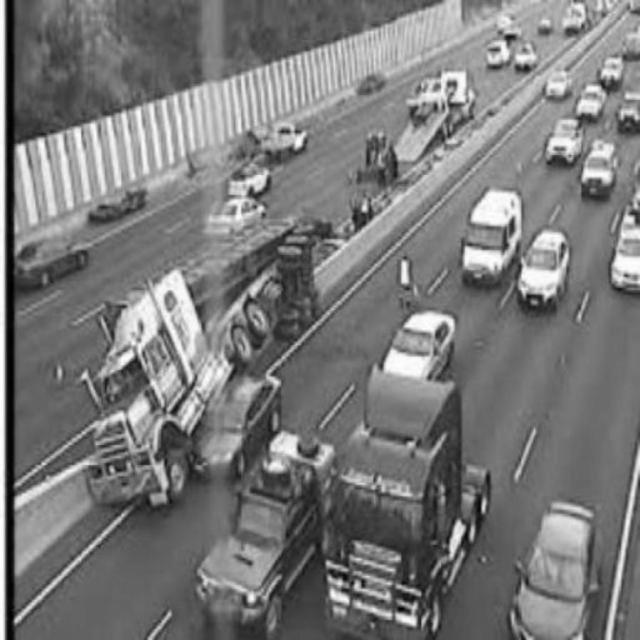accident: (95, 248, 280, 502)
vehicle: (325, 378, 491, 636), (191, 444, 331, 628), (503, 493, 609, 640), (382, 295, 459, 383), (464, 179, 520, 280), (16, 221, 92, 292), (514, 229, 578, 309), (194, 199, 275, 237), (578, 132, 624, 196), (537, 114, 585, 169), (611, 217, 639, 297), (539, 61, 576, 99), (485, 31, 512, 69), (597, 52, 625, 87)
